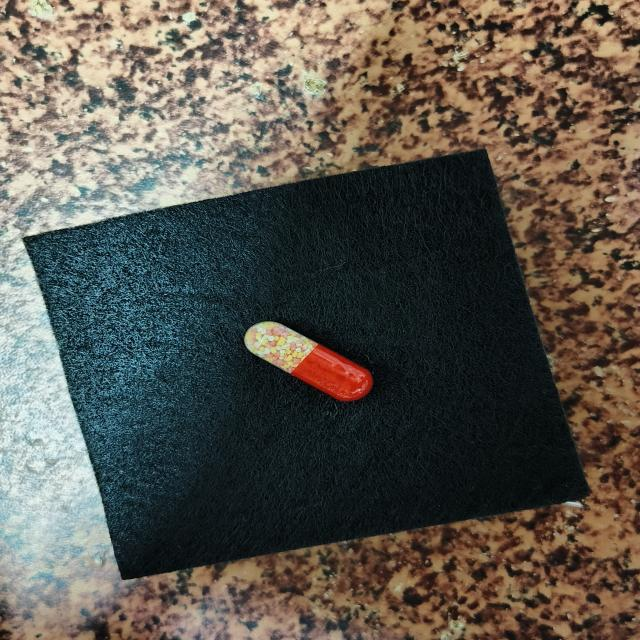Intact Capsule: (244, 321, 373, 401)
